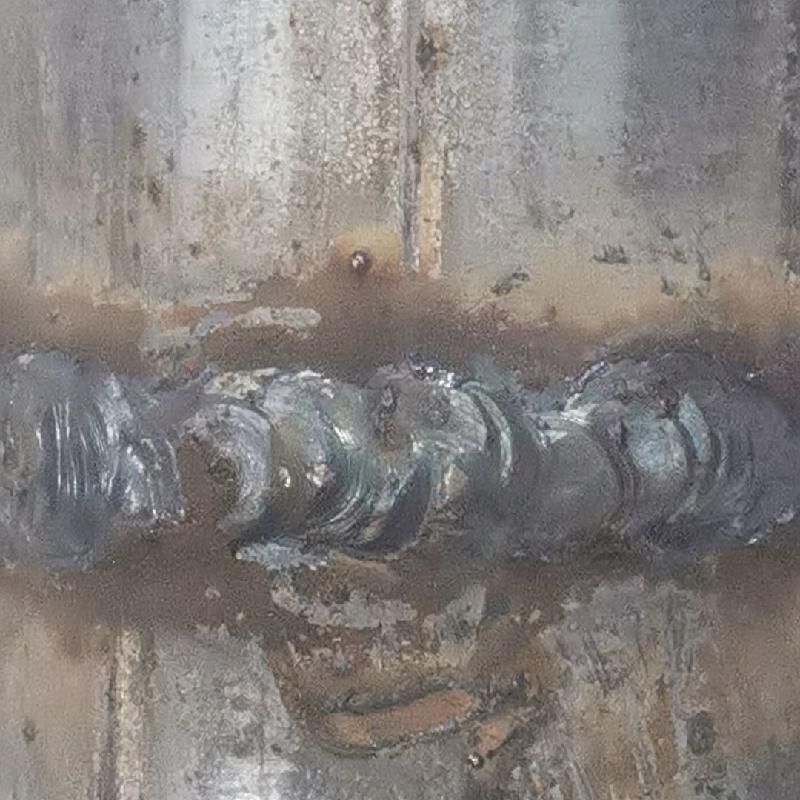good: (3, 335, 799, 565)
